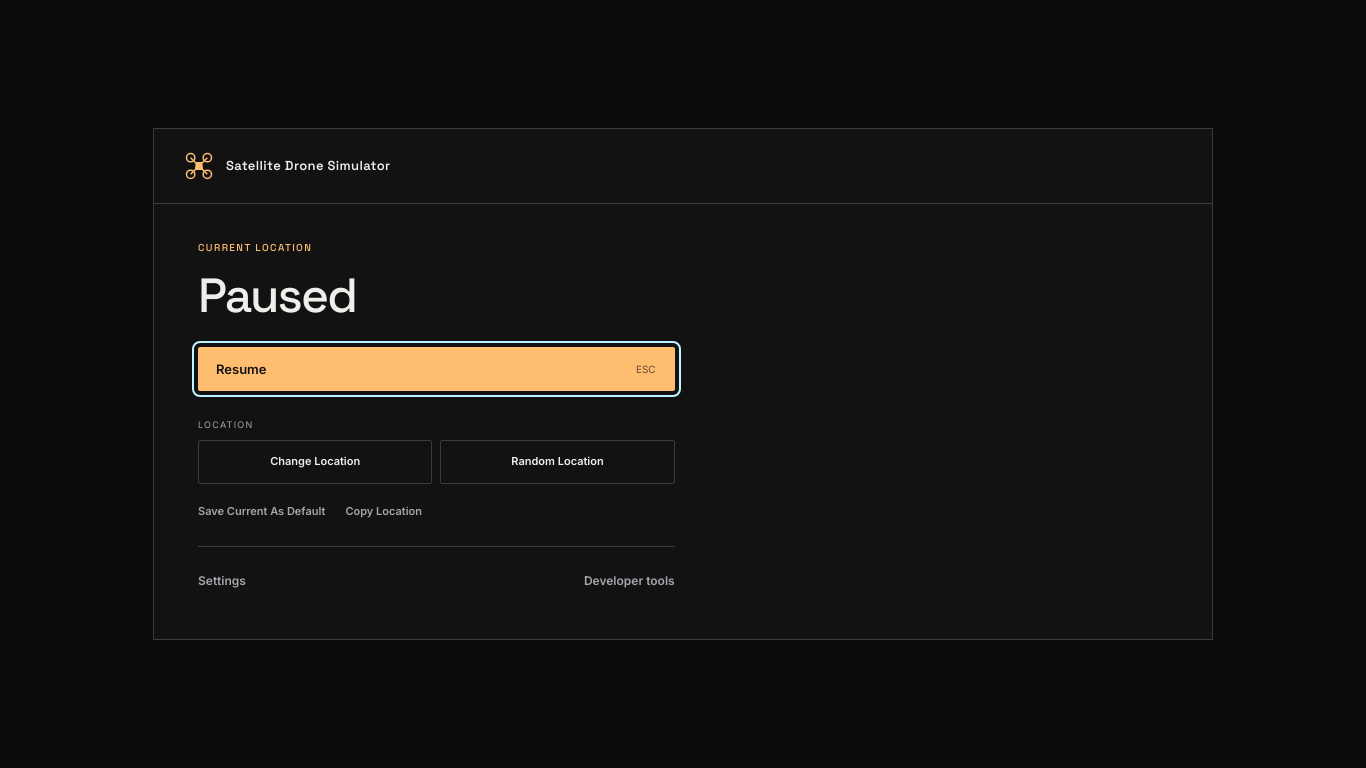
Test case: PauseMenu copy location › reports random-load failure and permits retry without resuming an empty flight
The width and height of the screenshot is (1366, 768).
Click the button "Random Location" at (557, 462), box left=440, top=440, right=675, bottom=484
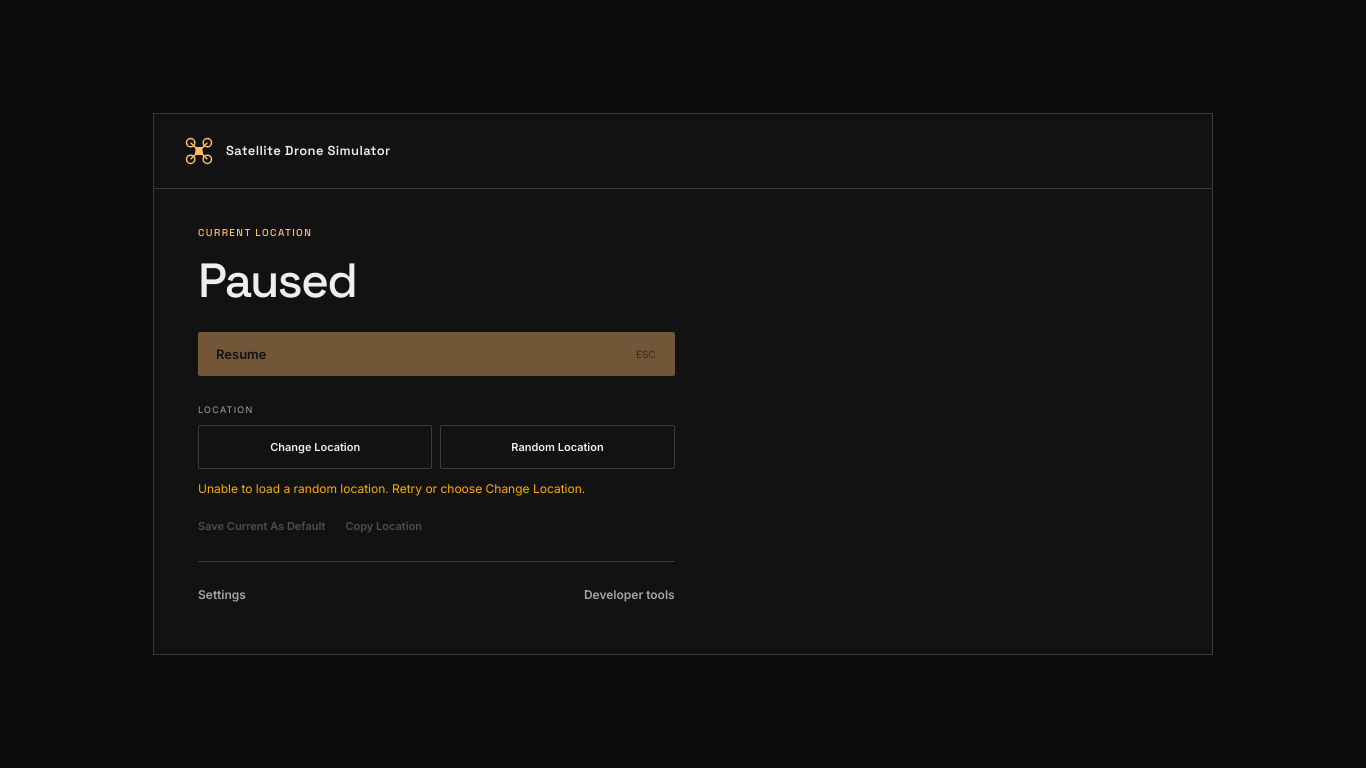
Expected: the message "Unable to load a random location. Retry or choose Change Location." is shown, left=198, top=481, right=585, bottom=496
Expected: the button "Resume" is disabled, left=198, top=332, right=675, bottom=376
Click the button "Random Location" at (557, 447), box left=440, top=425, right=675, bottom=469
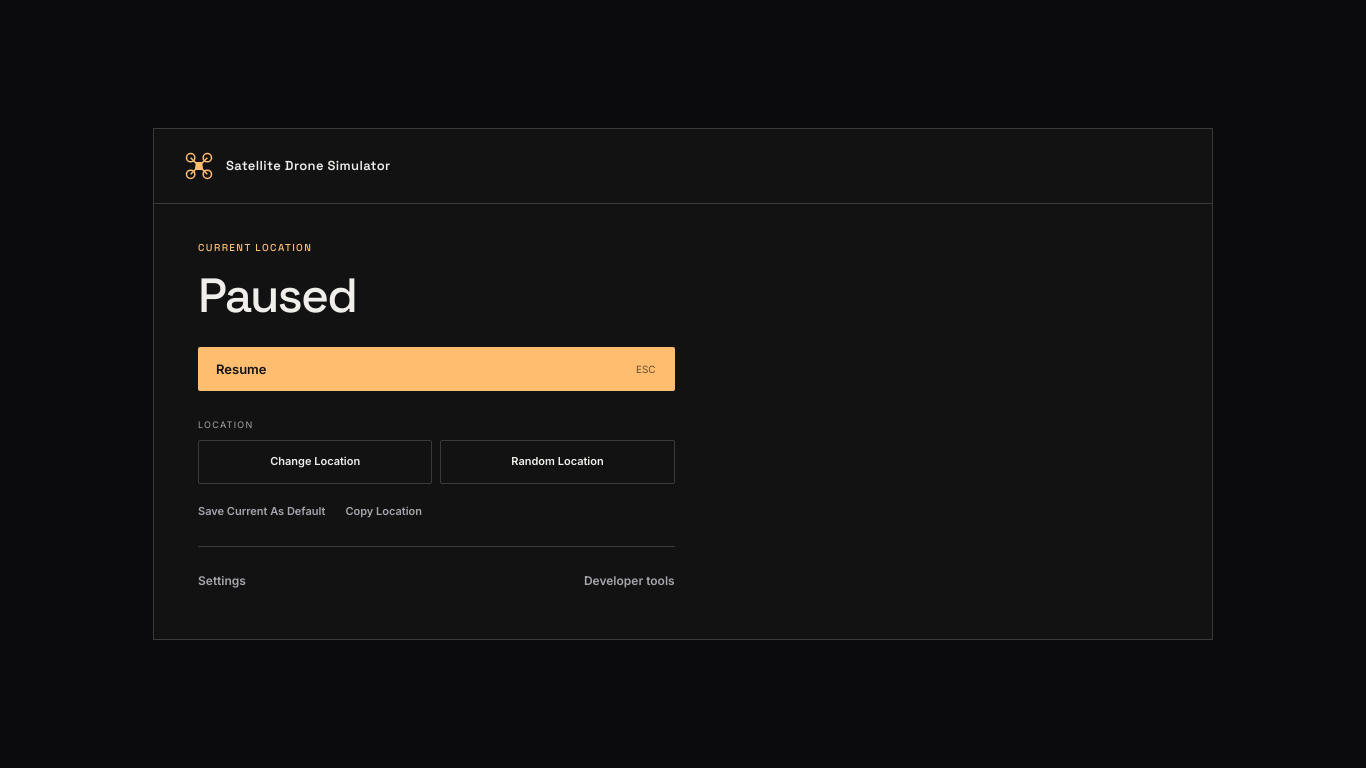
Expected: the message "Unable to load a random location. Retry or choose Change Location." is gone
